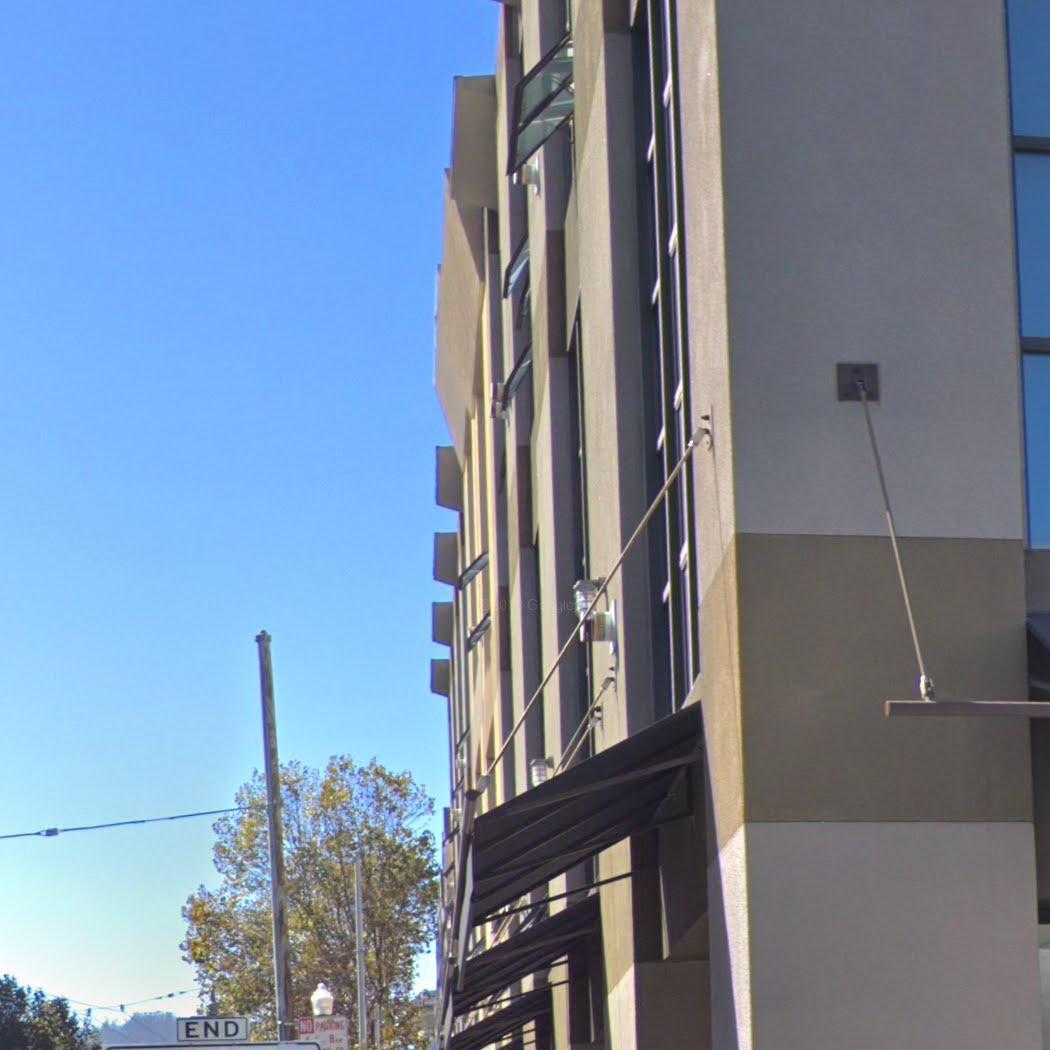No Parking: (298, 1017, 349, 1048)
